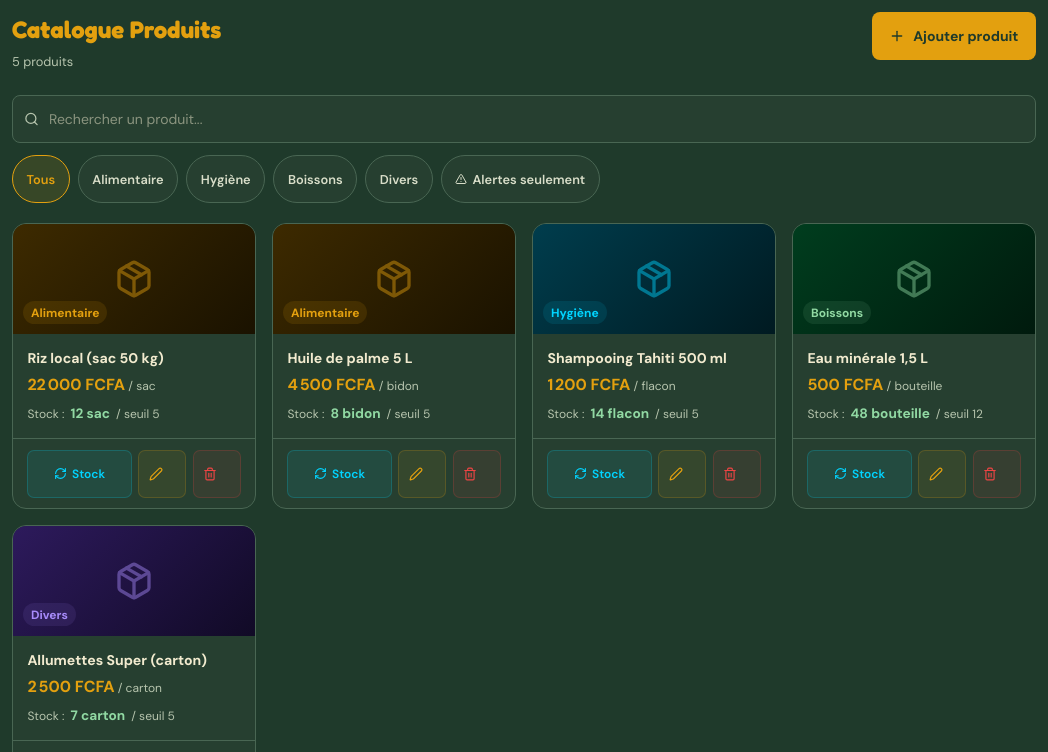
ProduitsPage › 12 — filtre "Alimentaire" : affiche Riz, masque Shampooing
Click the button "Alimentaire" at (128, 179), box [78,155,178,203]
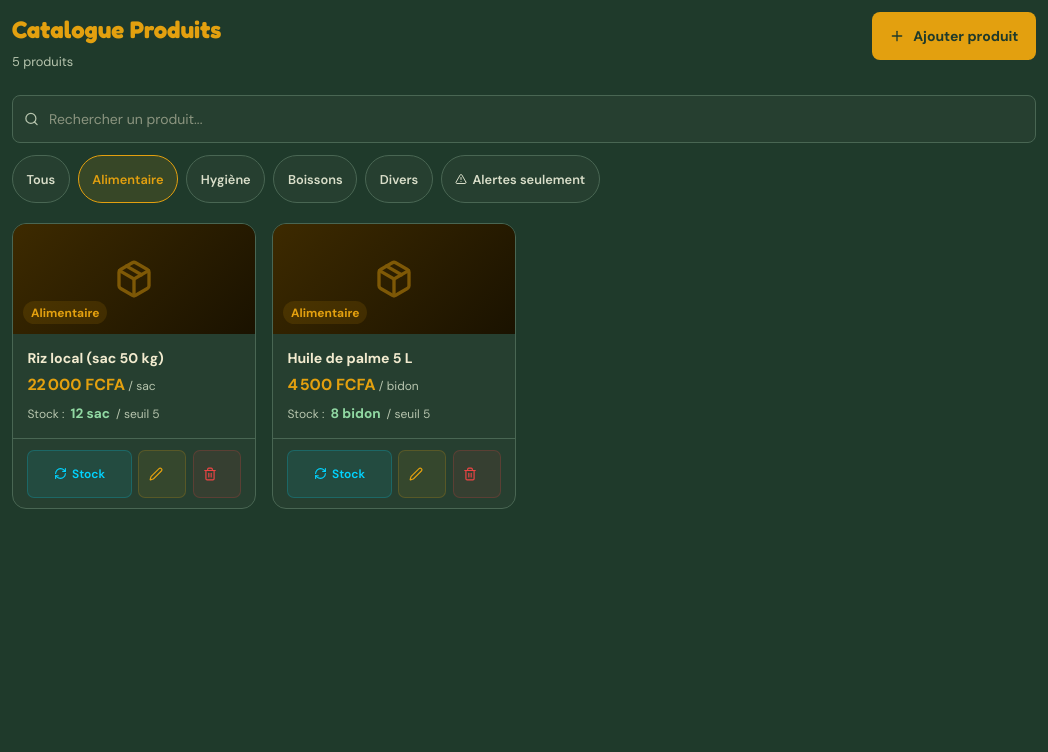
Expected: the text "Riz local (sac 50 kg)" is shown, [27,349,164,367]
Now the text "Shampooing Tahiti 500 ml" is gone
